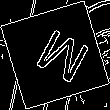M_SW: (22, 21, 88, 89)
